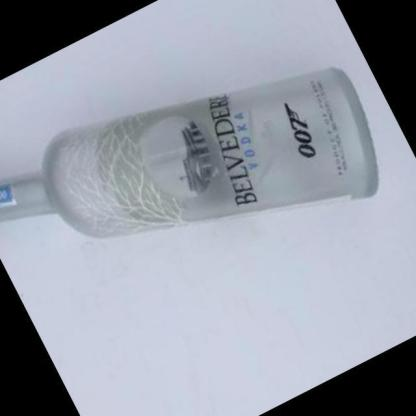Can: (0, 67, 379, 239)
